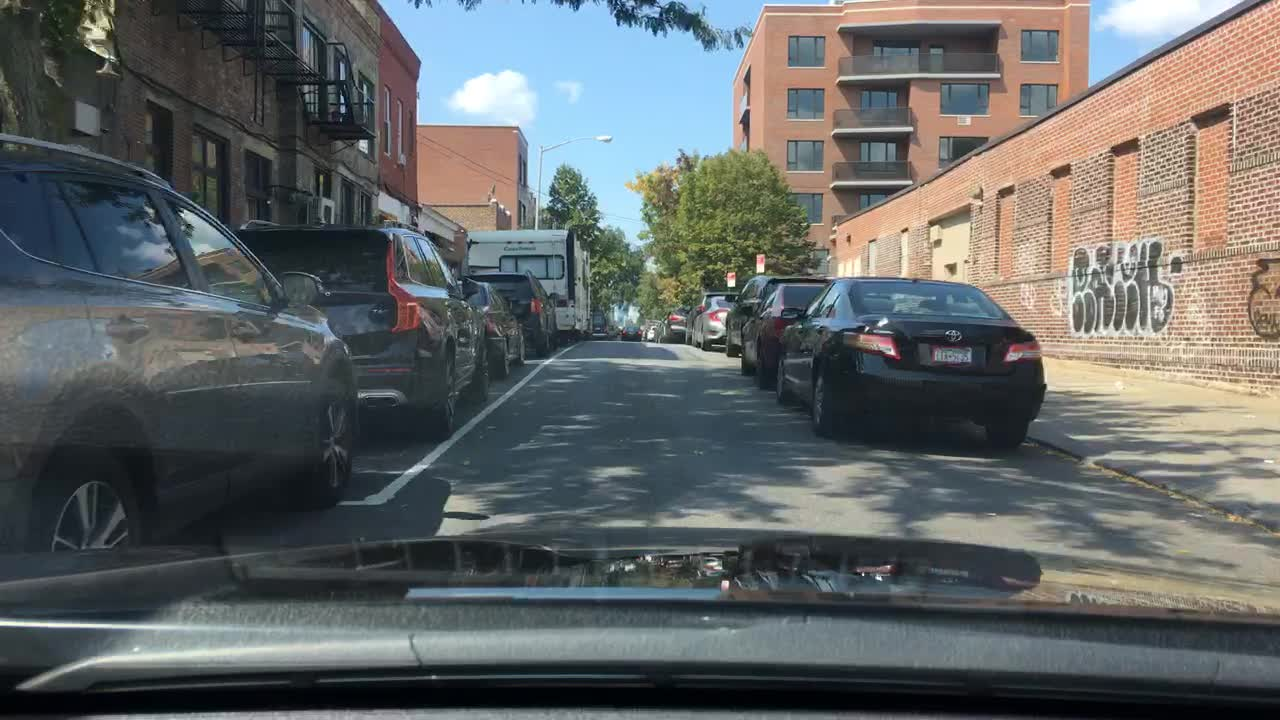bus: (464, 224, 591, 339)
car: (0, 132, 360, 565), (230, 217, 479, 444), (773, 270, 1046, 453), (737, 275, 836, 390), (719, 267, 830, 357), (472, 270, 559, 359), (454, 275, 526, 382), (685, 292, 730, 350), (658, 312, 688, 341), (679, 303, 697, 343), (589, 311, 609, 338), (616, 324, 643, 342), (647, 324, 666, 338)
traffic sign: (752, 252, 764, 275), (725, 271, 737, 287)
